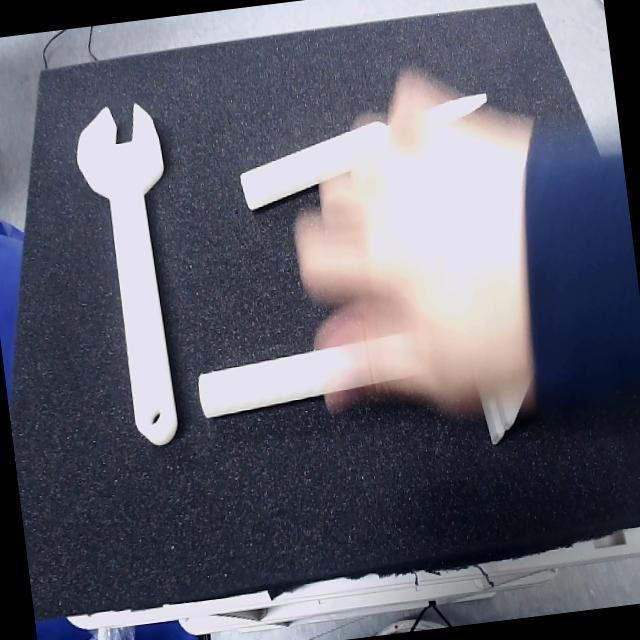Spanner: (75, 106, 179, 446)
